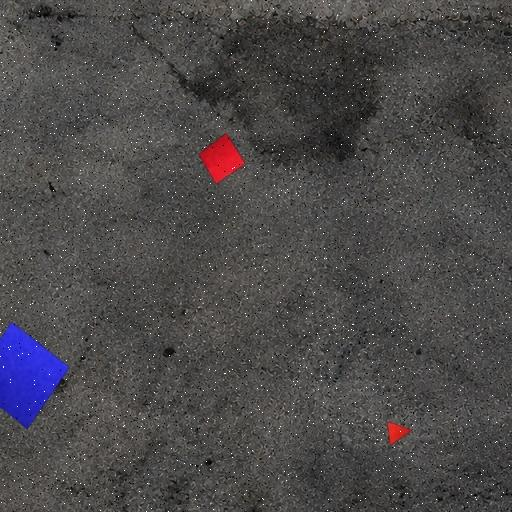BLUE_SQUARE: (0, 320, 70, 430)
RED_SQUARE: (198, 132, 246, 185)
